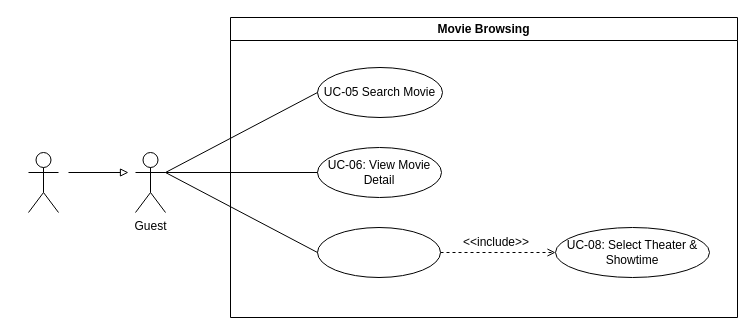
The diagram is 755 pixels wide and 335 high, and some of its shapes have lost their labels. Each missing label, with the centre of its shape:
Customer: point 43,182
UC-07: Booking Tickets: point 378,252
